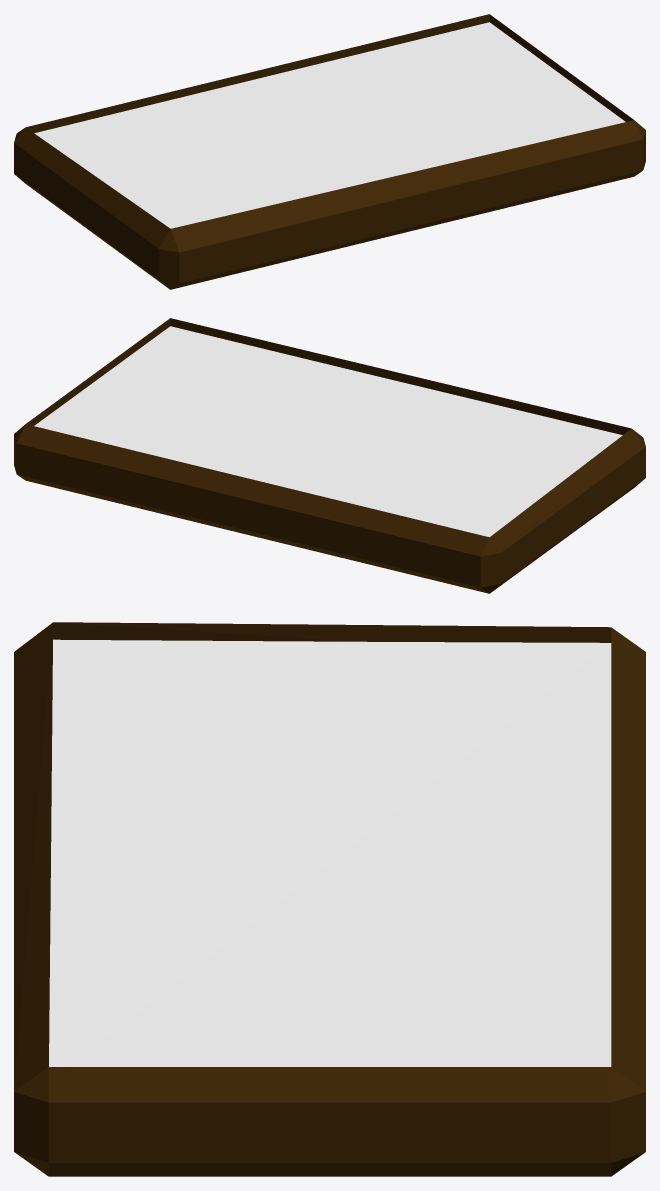
File: table.glb
The picture shows the model from 3 angles, top to bottom: view 1: azimuth 30°, elevation 25°; view 2: azimuth 150°, elevation 25°; view 3: azimuth 270°, elevation 25°; orthographic projection. The views are drawn at different scales.
Visible parts, largest first — view 1: Cube; view 2: Cube; view 3: Cube.
Boxes of the visible parts, bbox=[...] form: Cube: bbox=[14, 14, 645, 289]; Cube: bbox=[14, 318, 645, 593]; Cube: bbox=[14, 622, 645, 1176].
Size of the model in its own units: 6.31 by 0.7403 by 3.65.
